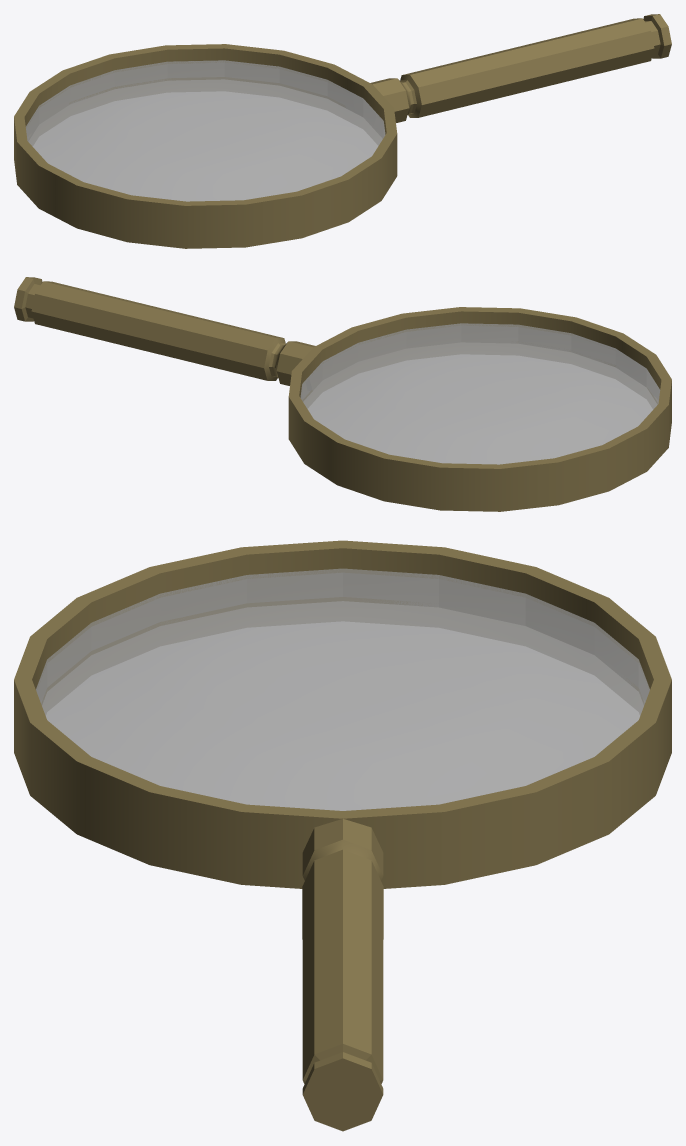
The model's file is PR_MagnifyingGlass.fbx.
3 renders of one model, top to bottom at view 1: azimuth 30°, elevation 25°; view 2: azimuth 150°, elevation 25°; view 3: azimuth 270°, elevation 25°, orthographic. The views are drawn at different scales.
Visible parts, largest first — view 1: PR_MagnifyingGlass; view 2: PR_MagnifyingGlass; view 3: PR_MagnifyingGlass.
Part boxes in pixels (left/top/right/bottom): PR_MagnifyingGlass: left=14, top=14, right=671, bottom=248; PR_MagnifyingGlass: left=14, top=277, right=671, bottom=511; PR_MagnifyingGlass: left=14, top=540, right=671, bottom=1131.
Bounding box in the file's own units: 64.36 × 4.8 × 34.57.
